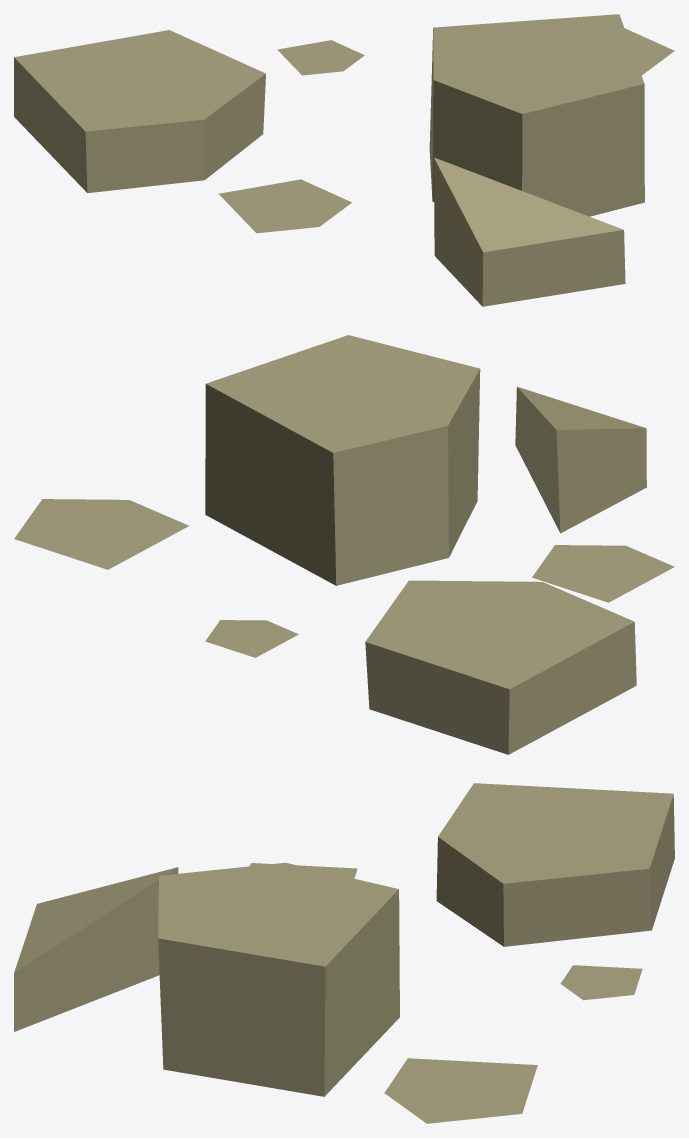
File: Rubble02.fbx
The picture shows the model from 3 angles, top to bottom: view 1: azimuth 30°, elevation 25°; view 2: azimuth 150°, elevation 25°; view 3: azimuth 270°, elevation 25°; orthographic projection. The views are drawn at different scales.
Parts seen in each view (by area): view 1: Rubble02; view 2: Rubble02; view 3: Rubble02.
Boxes of the visible parts, bbox=[...] form: Rubble02: bbox=[14, 14, 674, 306]; Rubble02: bbox=[14, 335, 674, 754]; Rubble02: bbox=[14, 783, 674, 1123].
Size of the model in its own units: 103 by 22.43 by 96.78.
